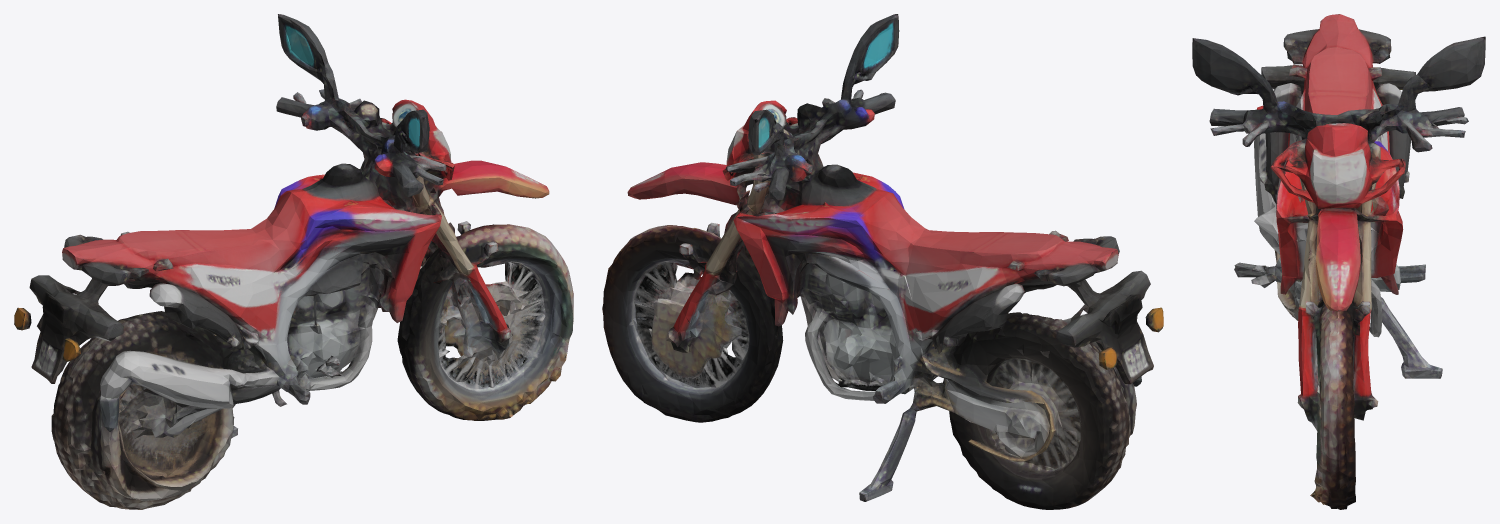
File: Honest 249.glb
3 views of the same model, side by side, from view 1: azimuth 30°, elevation 25°; view 2: azimuth 150°, elevation 25°; view 3: azimuth 270°, elevation 25° (orthographic). The views are drawn at different scales.
Visible parts, largest first — view 1: world; view 2: world; view 3: world.
Boxes of the visible parts, left/top/right/bottom form: world: left=14, top=14, right=573, bottom=509; world: left=602, top=14, right=1163, bottom=509; world: left=1192, top=14, right=1485, bottom=509.
Size of the model in its own units: 0.9957 by 0.6852 by 0.4653.
1 material, 1 textured.
